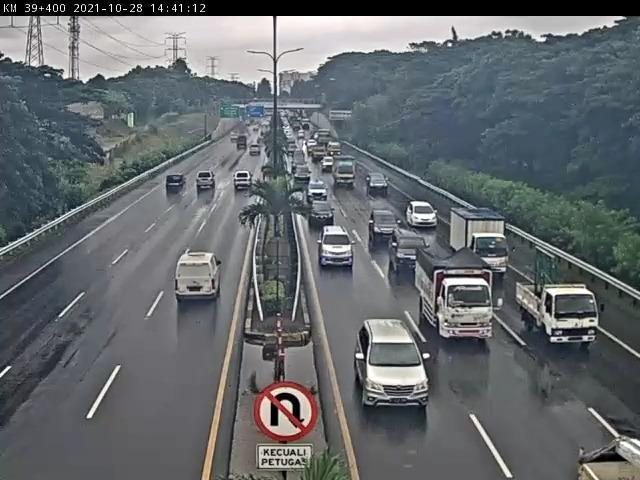car: (355, 320, 431, 411), (175, 252, 223, 306), (387, 229, 431, 278), (319, 225, 356, 269), (370, 208, 405, 243), (407, 204, 439, 231), (308, 199, 335, 228)
truck: (416, 245, 496, 343), (515, 278, 599, 346), (449, 205, 510, 281), (165, 176, 190, 199), (194, 170, 218, 192), (306, 180, 329, 202), (232, 170, 254, 190)
